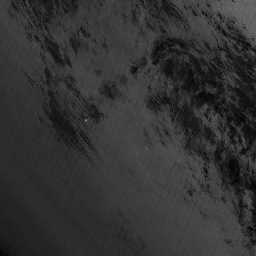Target: (82, 116, 88, 123)
